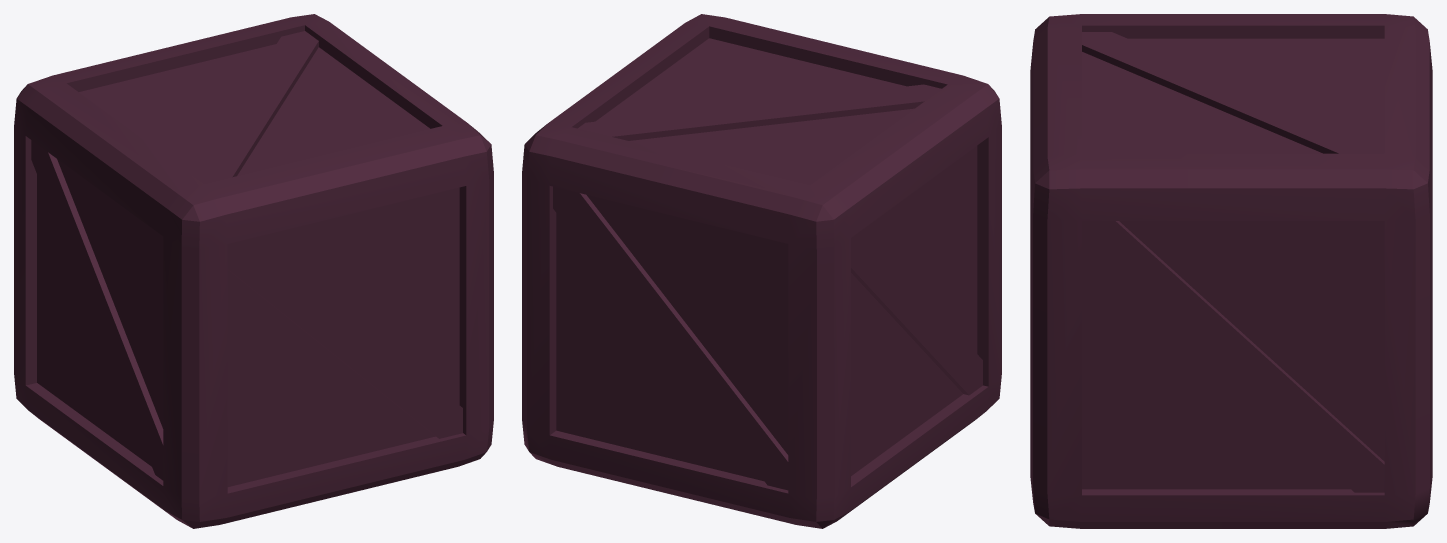
The model's file is Crate_Model (1).fbx.
The picture shows the model from 3 angles, left to right: view 1: azimuth 30°, elevation 25°; view 2: azimuth 150°, elevation 25°; view 3: azimuth 270°, elevation 25°; orthographic projection. The views are drawn at different scales.
Parts seen in each view (by area): view 1: pCube1; view 2: pCube1; view 3: pCube1.
Part boxes in pixels (left/top/right/bottom): pCube1: left=14, top=14, right=493, bottom=528; pCube1: left=522, top=14, right=1001, bottom=528; pCube1: left=1030, top=14, right=1432, bottom=528.
Size of the model in its own units: 108 by 108 by 108.
1 material, 1 textured.
